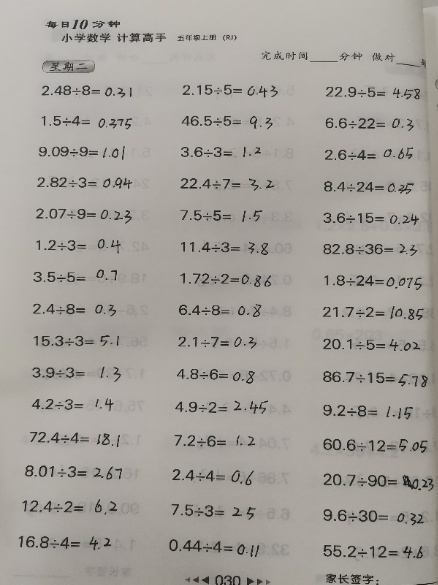equation: (320, 471, 438, 491), (320, 436, 438, 456), (21, 298, 129, 319), (26, 364, 132, 385), (168, 429, 266, 451), (29, 236, 130, 257), (19, 498, 125, 518), (319, 369, 430, 388), (27, 267, 131, 287), (177, 140, 271, 162), (320, 507, 426, 526), (320, 273, 423, 292), (26, 396, 123, 416), (319, 303, 426, 321), (166, 537, 261, 557), (34, 205, 134, 224), (320, 543, 425, 561), (21, 463, 124, 481), (16, 534, 113, 553), (27, 429, 122, 448), (180, 81, 280, 99), (323, 83, 422, 101), (173, 399, 271, 417), (320, 336, 422, 353), (37, 144, 128, 163), (168, 502, 258, 521), (320, 403, 415, 421), (320, 178, 415, 196), (179, 112, 274, 130), (174, 207, 269, 225), (320, 210, 420, 227), (34, 174, 134, 191), (177, 175, 276, 192), (177, 238, 270, 256), (169, 467, 256, 486), (177, 271, 273, 288), (39, 113, 134, 130), (39, 82, 134, 99), (176, 302, 264, 320), (320, 241, 419, 257), (322, 115, 415, 132), (174, 366, 257, 385), (31, 333, 122, 350), (176, 334, 259, 352), (322, 146, 415, 162)
